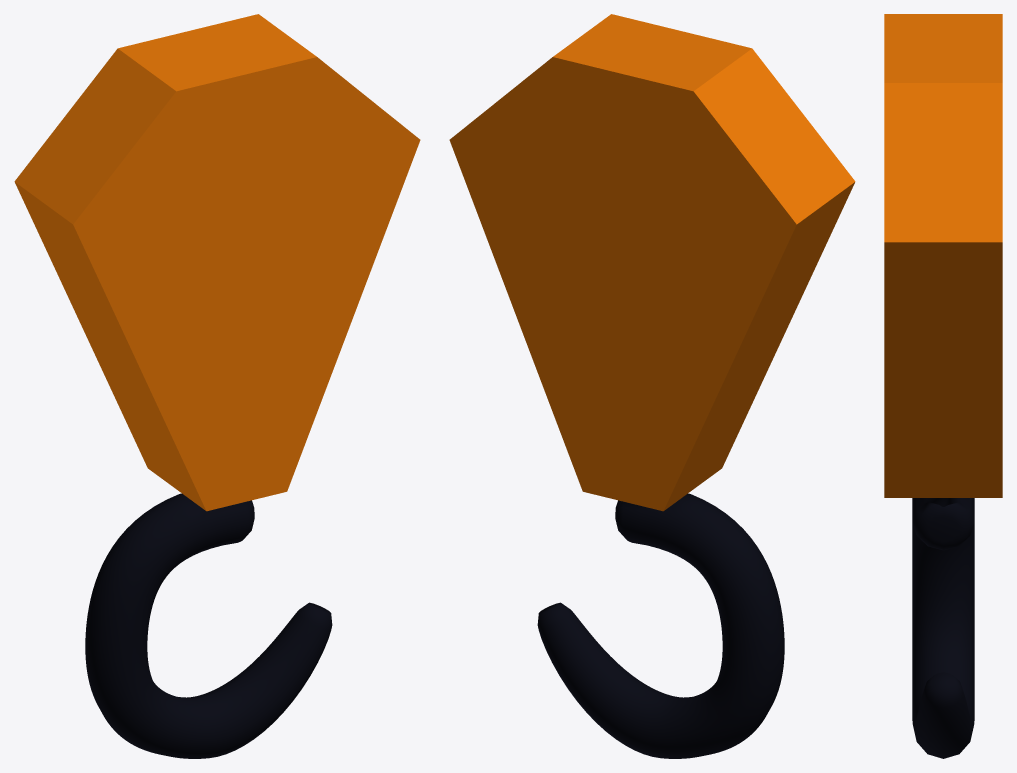
The model's file is hanger_3.fbx.
The picture shows the model from 3 angles, left to right: view 1: azimuth 30°, elevation 25°; view 2: azimuth 150°, elevation 25°; view 3: azimuth 270°, elevation 25°; orthographic projection.
Parts seen in each view (by area): view 1: NURBS路径; view 2: NURBS路径; view 3: NURBS路径.
Part boxes in pixels (<box>): NURBS路径: <box>14,14,420,758</box>; NURBS路径: <box>449,14,855,758</box>; NURBS路径: <box>884,14,1002,758</box>.
Size of the model in its own units: 83.11 by 284 by 547.
